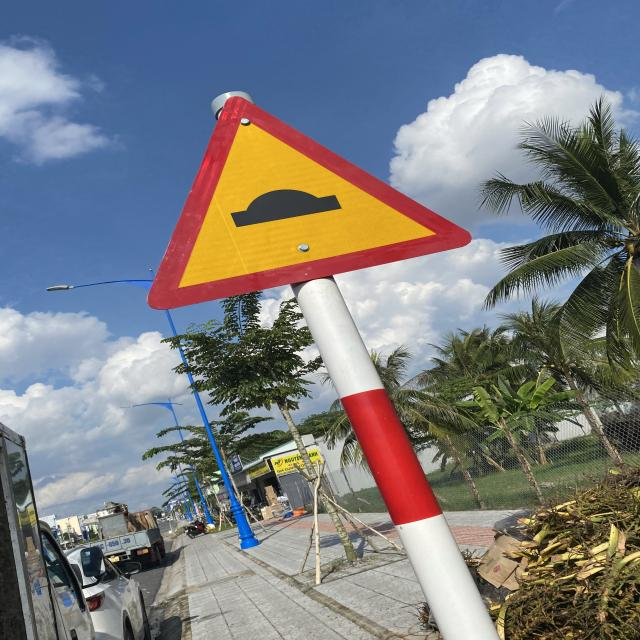Duong_Cong_Ben_Phai: (147, 95, 472, 312)
